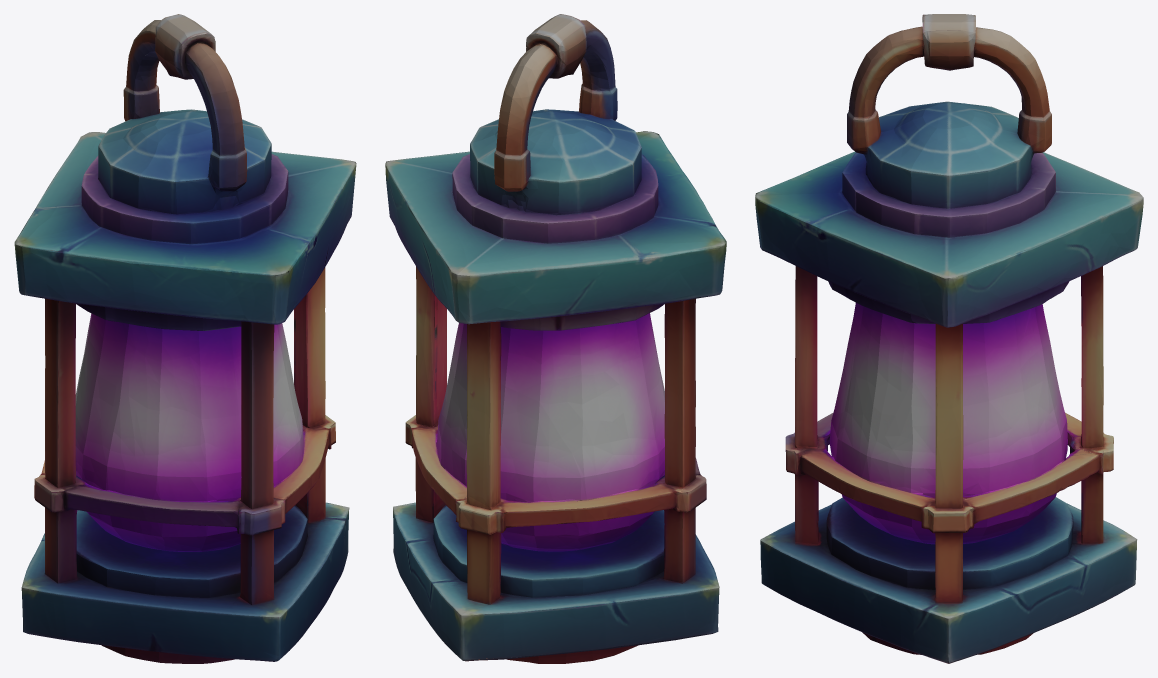
File: lamp.glb
3 renders of one model, left to right at view 1: azimuth 30°, elevation 25°; view 2: azimuth 150°, elevation 25°; view 3: azimuth 270°, elevation 25°, orthographic.
Visible parts, largest first — view 1: world; view 2: world; view 3: world.
Boxes of the visible parts, <box> form: world: <box>14,14,356,663</box>; world: <box>385,14,726,663</box>; world: <box>755,14,1143,663</box>.
Bounding box in the file's own units: 0.5917 × 1 × 0.588.
1 material, 1 textured.
